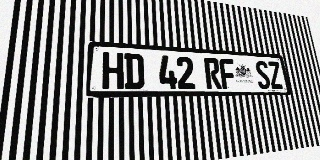2: (176, 56, 195, 89)
4: (158, 55, 178, 89)
D: (124, 53, 145, 89)
F: (219, 58, 237, 89)
H: (102, 52, 124, 89)
R: (204, 58, 222, 89)
S: (254, 60, 271, 89)
Z: (267, 61, 284, 89)
